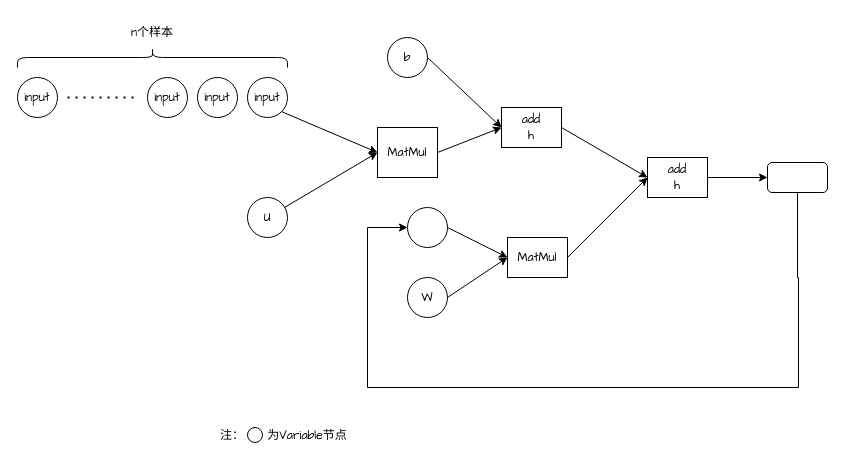
Some shapes in this 845 by 467 pixel diagram are drawn without their labels. The centre of each missing label's shape, as x and y in pixels:
"Last step" goes at (x=427, y=227).
"ReLU" goes at (x=797, y=177).
